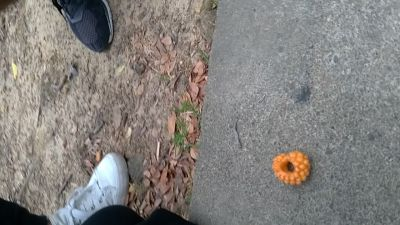eggs: (270, 150, 312, 187)
